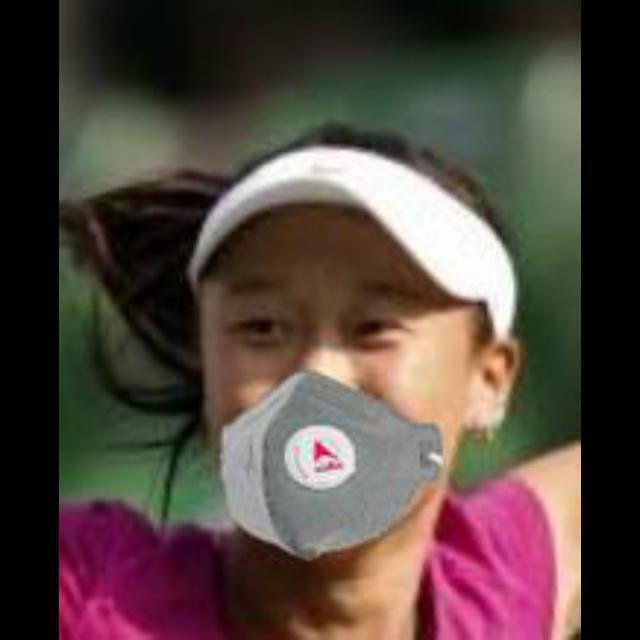suspicion: (160, 134, 516, 604)
